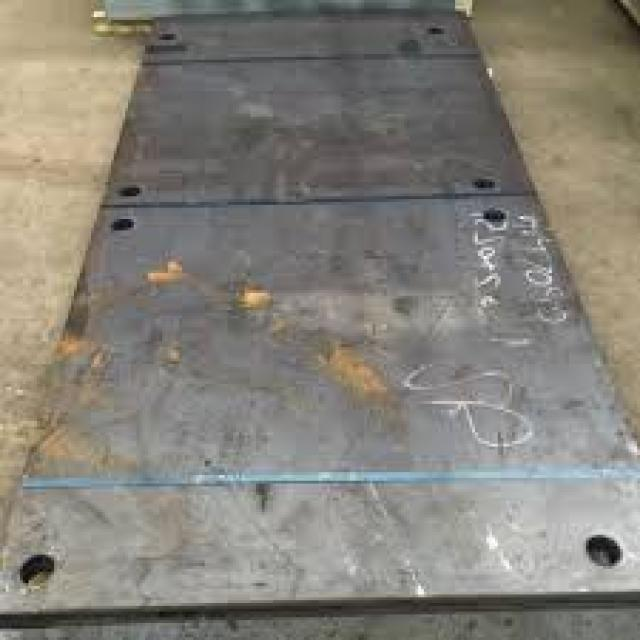Dry: (20, 17, 640, 609)
